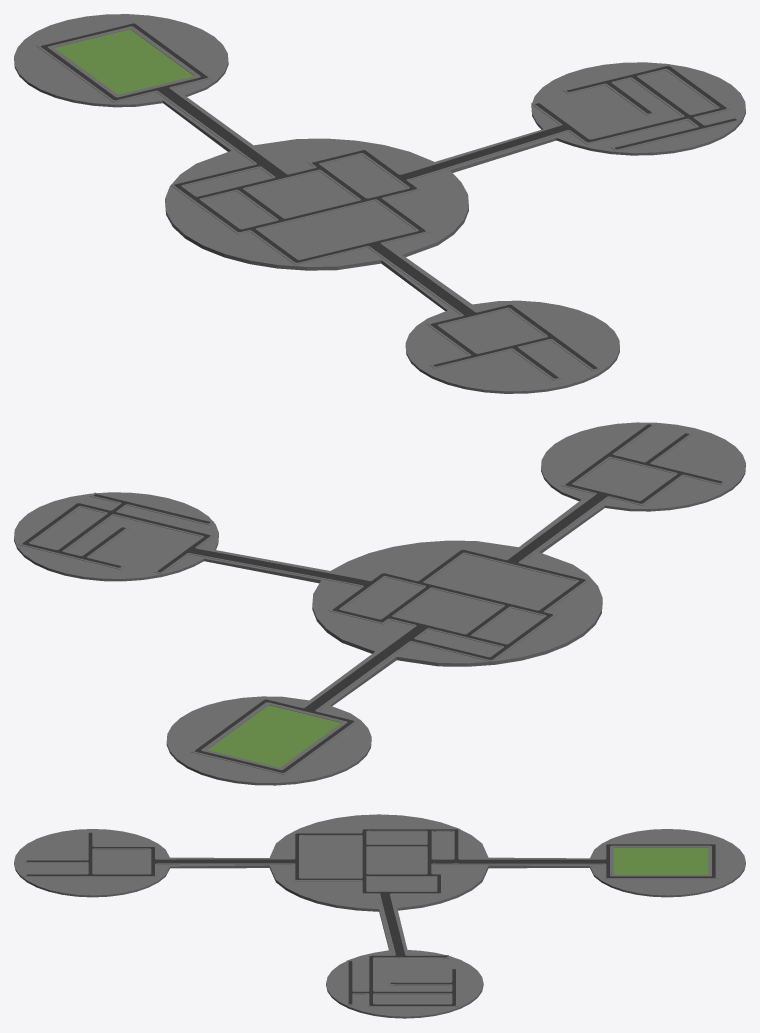
The model's file is floorversion4.fbx.
The picture shows the model from 3 angles, top to bottom: view 1: azimuth 30°, elevation 25°; view 2: azimuth 150°, elevation 25°; view 3: azimuth 270°, elevation 25°; orthographic projection. The views are drawn at different scales.
Visible parts, largest first — view 1: Cylinder.001; view 2: Cylinder.001; view 3: Cylinder.001.
Part boxes in pixels (left/top/right/bottom): Cylinder.001: left=14, top=14, right=745, bottom=393; Cylinder.001: left=14, top=422, right=745, bottom=785; Cylinder.001: left=14, top=814, right=745, bottom=1018.
Bounding box in the file's own units: 23814 × 162 × 36487.
